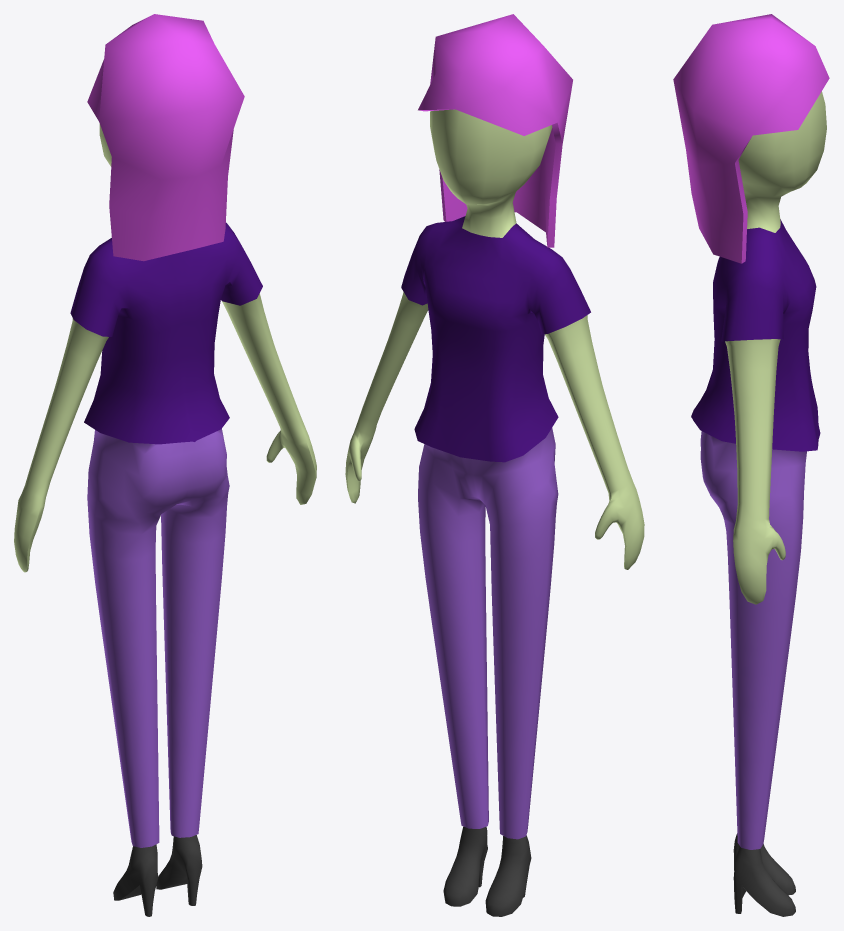
The model's file is modelado_Pesonaje_fem3.fbx.
3 renders of one model, left to right at view 1: azimuth 30°, elevation 25°; view 2: azimuth 150°, elevation 25°; view 3: azimuth 270°, elevation 25°, orthographic.
Visible parts, largest first — view 1: FemaleCharacter.001; view 2: FemaleCharacter.001; view 3: FemaleCharacter.001.
Boxes of the visible parts, x1=… form: FemaleCharacter.001: x1=14, y1=14, x2=316, y2=916; FemaleCharacter.001: x1=345, y1=14, x2=644, y2=916; FemaleCharacter.001: x1=673, y1=14, x2=829, y2=916.
Bounding box in the file's own units: 48.56 × 139 × 22.3.
1 material, 1 textured.
